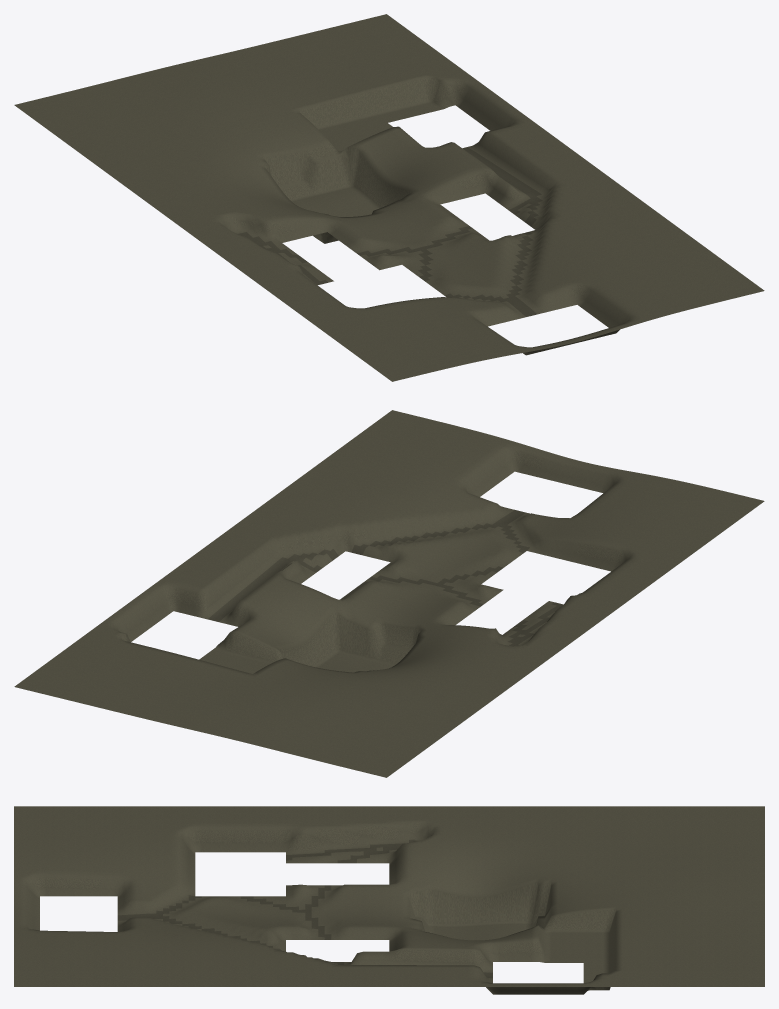
Rendered from level_site_wld_12_terrain.glb.
The picture shows the model from 3 angles, top to bottom: view 1: azimuth 30°, elevation 25°; view 2: azimuth 150°, elevation 25°; view 3: azimuth 270°, elevation 25°; orthographic projection.
Parts seen in each view (by area): view 1: level_site_wld_12_terrain; view 2: level_site_wld_12_terrain; view 3: level_site_wld_12_terrain.
Part boxes in pixels (<box>): level_site_wld_12_terrain: <box>14,14,764,381</box>; level_site_wld_12_terrain: <box>14,410,764,777</box>; level_site_wld_12_terrain: <box>14,806,764,994</box>.
Bounding box in the file's own units: 66 × 8.7 × 116.
2 materials, 2 textured.
